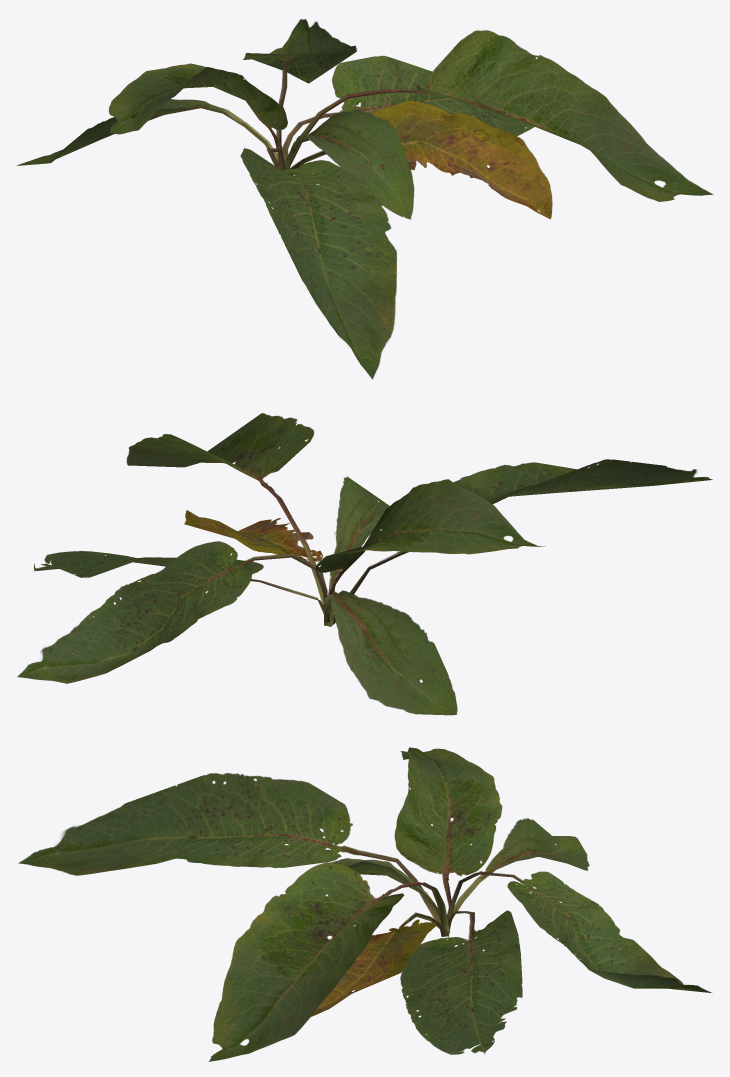
The model's file is weed_plant_web.glb.
The picture shows the model from 3 angles, top to bottom: view 1: azimuth 30°, elevation 25°; view 2: azimuth 150°, elevation 25°; view 3: azimuth 270°, elevation 25°; orthographic projection. The views are drawn at different scales.
Parts seen in each view (by area): view 1: weed_plant_02_a_LOD2; view 2: weed_plant_02_a_LOD2; view 3: weed_plant_02_a_LOD2.
Boxes of the visible parts, x1,y1,x2,y2 form: weed_plant_02_a_LOD2: [17, 19, 713, 379]; weed_plant_02_a_LOD2: [17, 413, 712, 715]; weed_plant_02_a_LOD2: [18, 747, 711, 1061].
Bounding box in the file's own units: 0.2193 × 0.0725 × 0.2909.
Materials: 1 (1 with a texture image).
